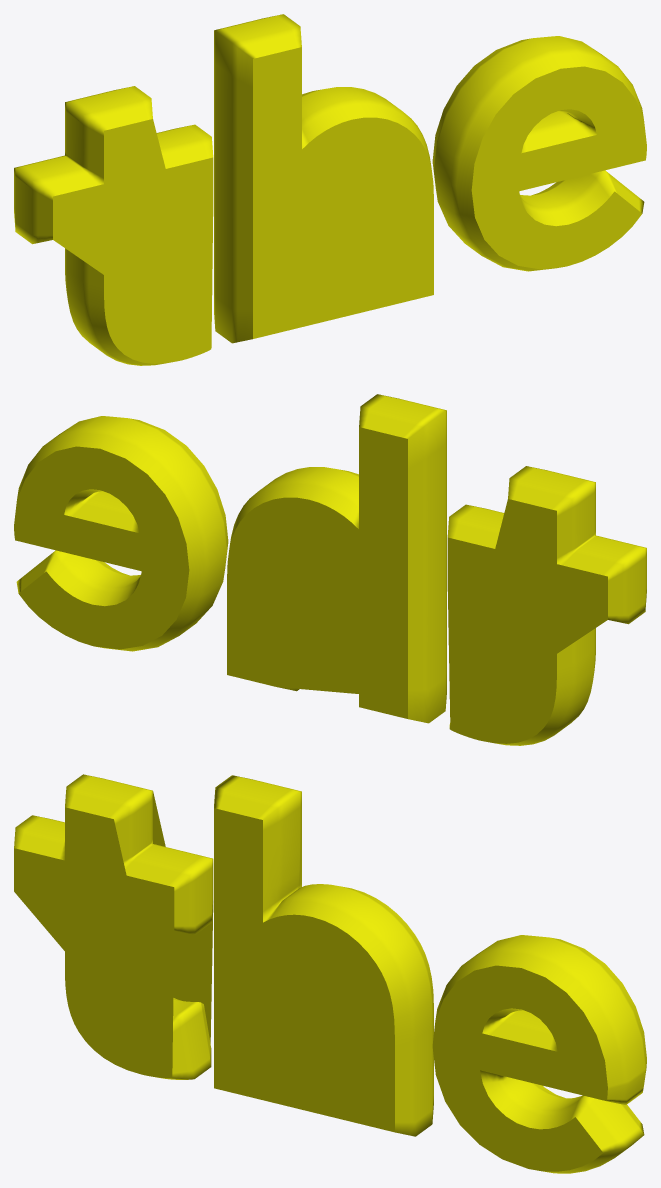
The model's file is the2.fbx.
3 renders of one model, top to bottom at view 1: azimuth 30°, elevation 25°; view 2: azimuth 150°, elevation 25°; view 3: azimuth 330°, elevation 25°, orthographic.
Visible parts, largest first — view 1: bevelPolygon2, bevelPolygon1, bevelPolygon3; view 2: bevelPolygon2, bevelPolygon1, bevelPolygon3; view 3: bevelPolygon2, bevelPolygon1, bevelPolygon3.
Boxes of the visible parts, x1,y1,x2,y2 form: bevelPolygon2: [214, 14, 433, 343]; bevelPolygon1: [14, 86, 213, 365]; bevelPolygon3: [432, 36, 646, 271]; bevelPolygon2: [227, 394, 446, 723]; bevelPolygon1: [447, 466, 646, 745]; bevelPolygon3: [14, 416, 228, 651]; bevelPolygon2: [214, 775, 433, 1136]; bevelPolygon1: [14, 774, 213, 1079]; bevelPolygon3: [432, 935, 646, 1173].
Bounding box in the file's own units: 6.34 × 3.01 × 0.7.
